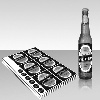beer: (77, 5, 93, 82)
